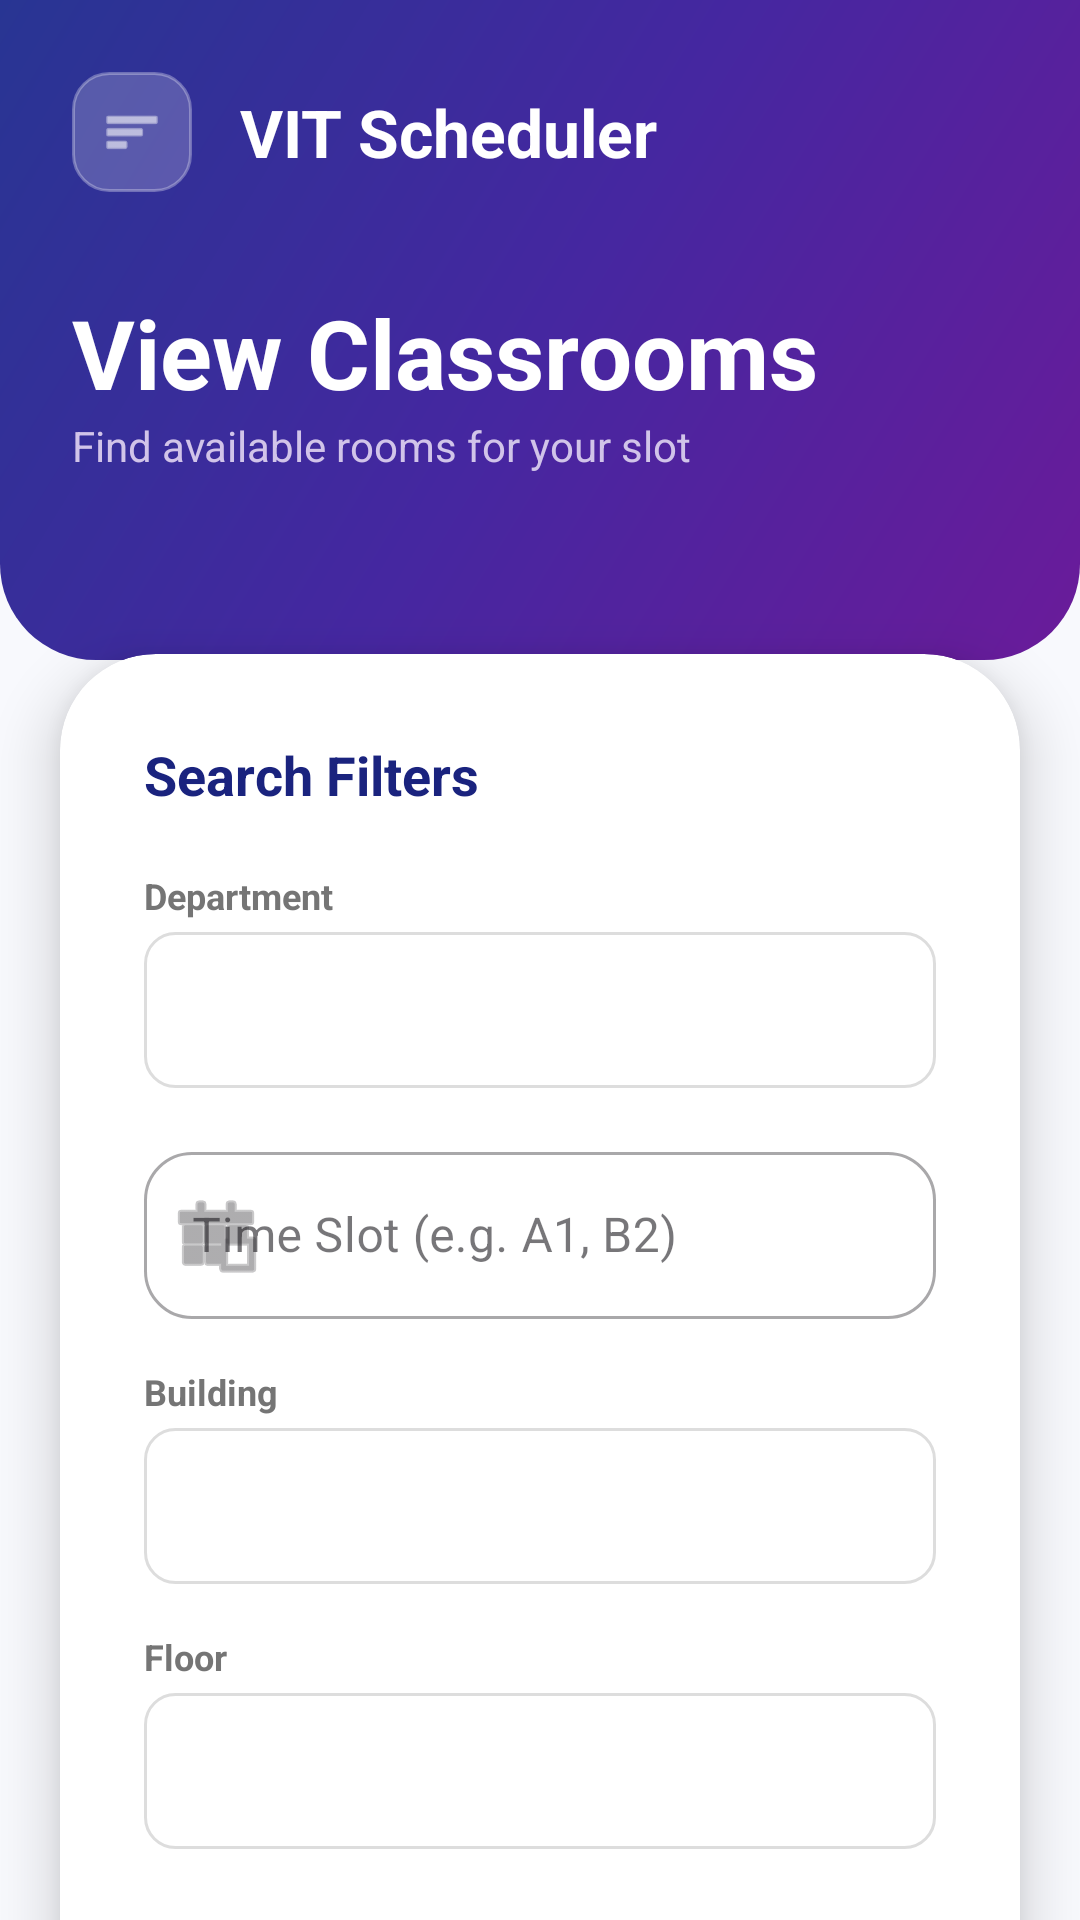

Screen size 1080×1920. Icon name, then its box in pixels as (x1, y1, x2, y2):
sort by size: (72, 72, 192, 192)
